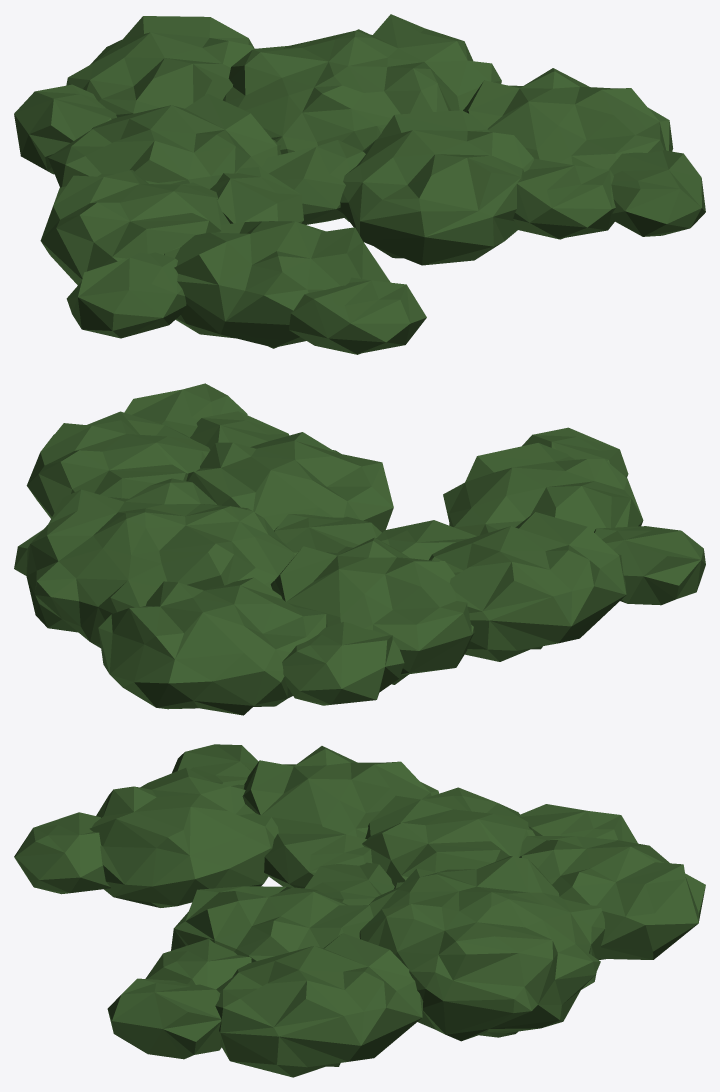
Rendered from SM_Env_Tree_Canopy_03.glb.
3 views of the same model, one above another, from view 1: azimuth 30°, elevation 25°; view 2: azimuth 150°, elevation 25°; view 3: azimuth 270°, elevation 25° (orthographic). The views are drawn at different scales.
Parts seen in each view (by area): view 1: SM_Env_Tree_Canopy_03; view 2: SM_Env_Tree_Canopy_03; view 3: SM_Env_Tree_Canopy_03.
Part boxes in pixels (bbox=[...]): SM_Env_Tree_Canopy_03: bbox=[14, 14, 705, 354]; SM_Env_Tree_Canopy_03: bbox=[14, 383, 705, 715]; SM_Env_Tree_Canopy_03: bbox=[14, 744, 705, 1077].
Size of the model in its own units: 0.2126 by 0.0454 by 0.2121.
